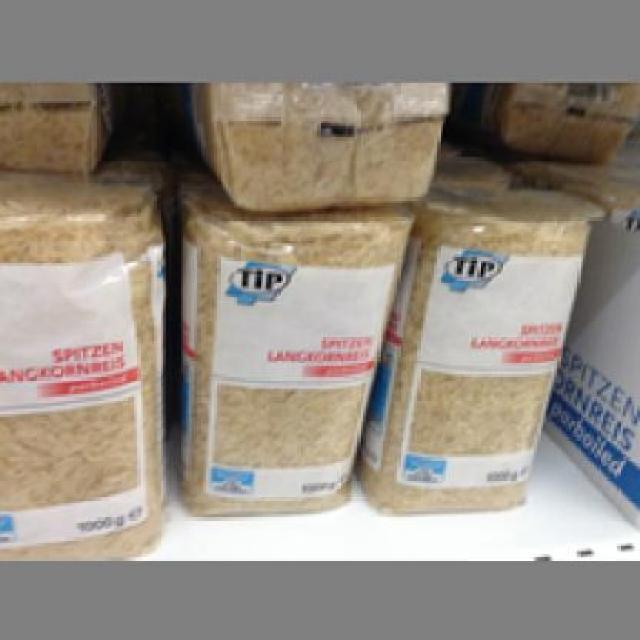Rice: (352, 179, 592, 512), (174, 195, 414, 514), (0, 174, 163, 557), (177, 79, 446, 212)
